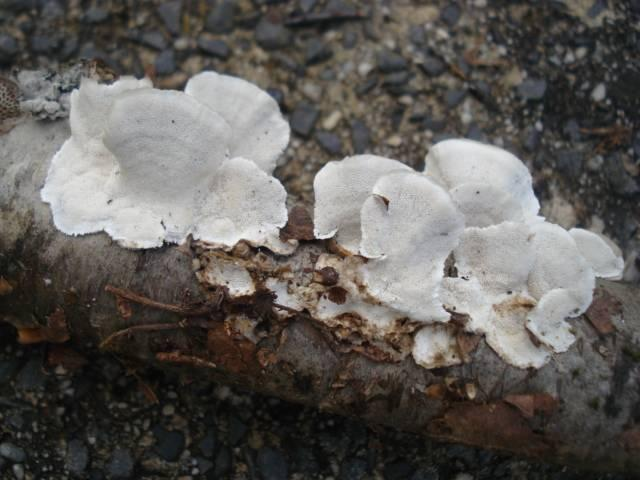poisonous_mushroom: (311, 136, 624, 371), (39, 69, 293, 253)
